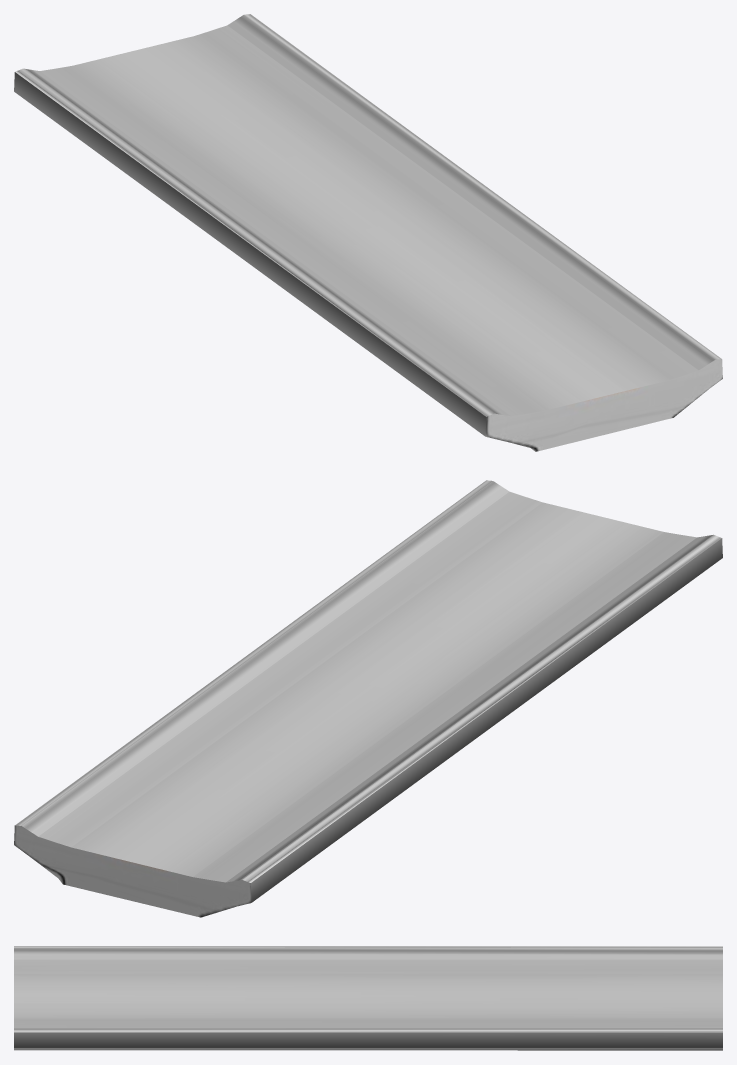
The model's file is ctTransport.obj.
3 renders of one model, top to bottom at view 1: azimuth 30°, elevation 25°; view 2: azimuth 150°, elevation 25°; view 3: azimuth 270°, elevation 25°, orthographic. The views are drawn at different scales.
Parts seen in each view (by area): view 1: Line006; view 2: Line006; view 3: Line006.
Boxes of the visible parts, left/top/right/bottom form: Line006: left=14, top=14, right=722, bottom=451; Line006: left=14, top=480, right=722, bottom=917; Line006: left=14, top=946, right=722, bottom=1050.
Bounding box in the file's own units: 1.2 × 0.2338 × 4.13.
Materials: 1 (1 with a texture image).
